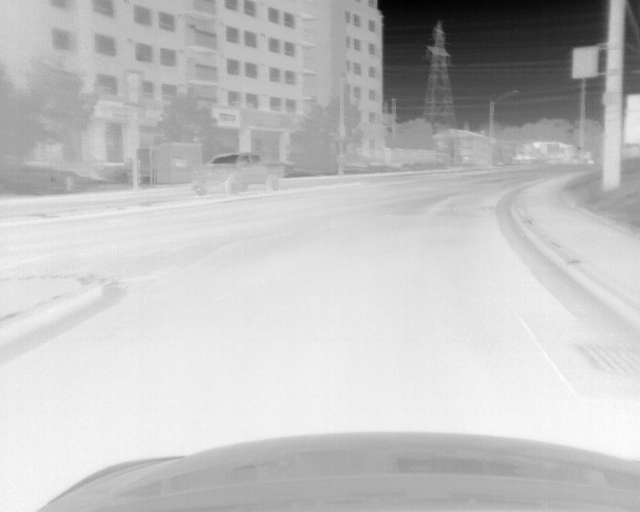car: (191, 150, 287, 196)
